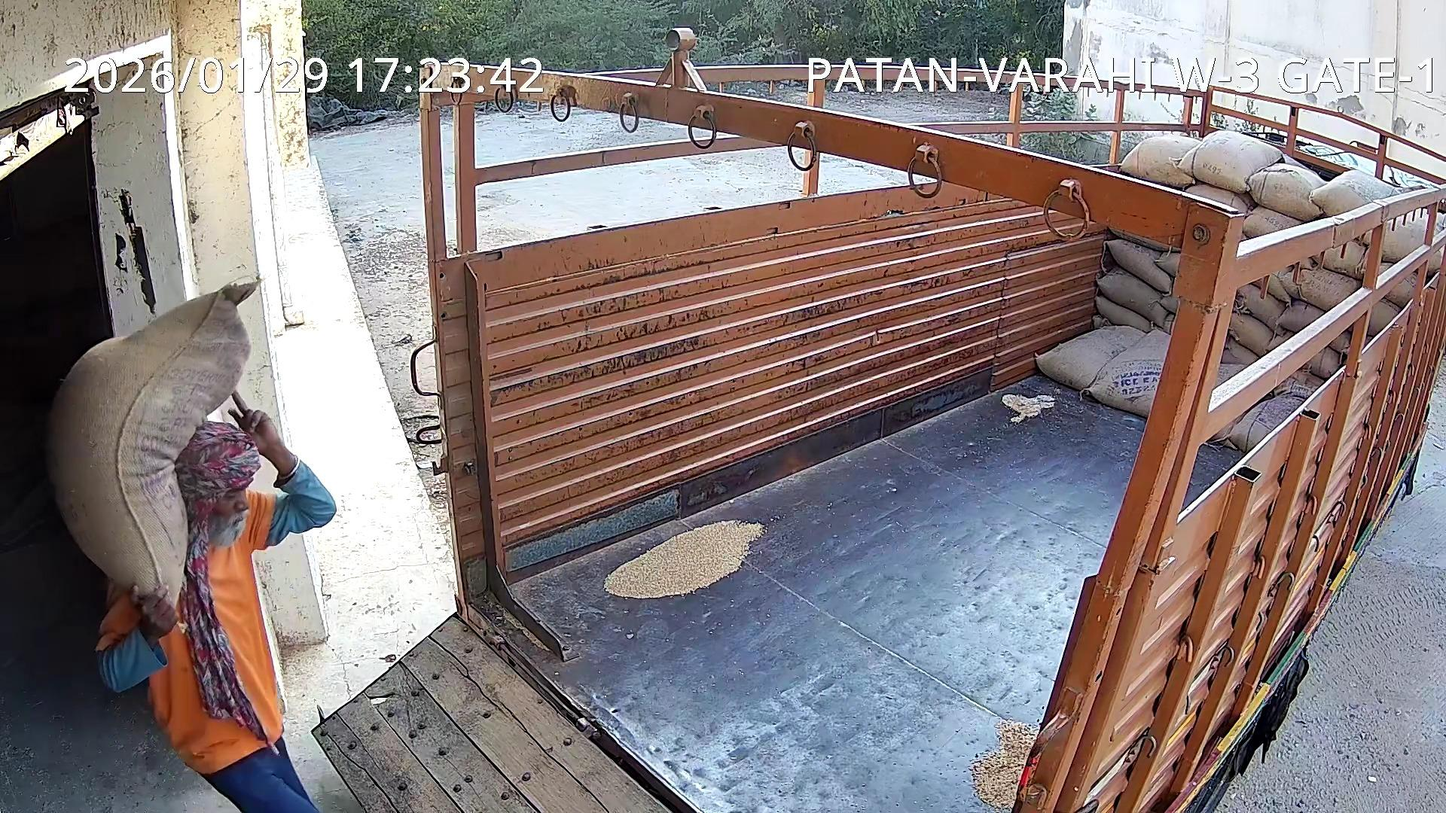Sack: (45, 283, 256, 601)
